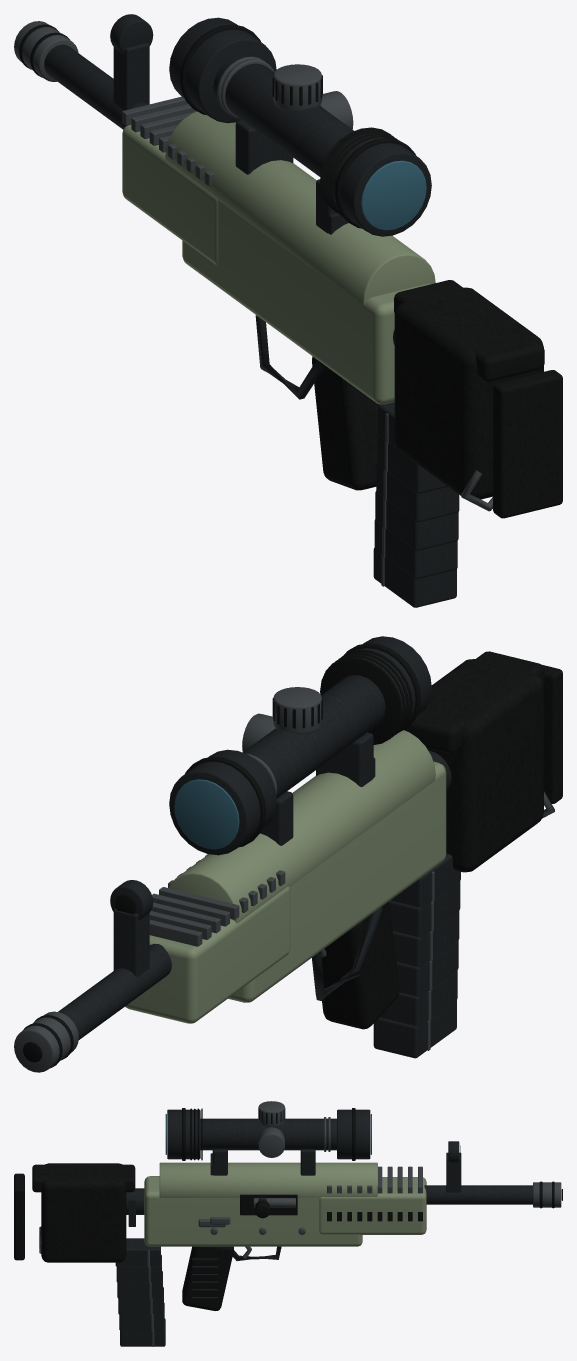
File: aug.glb
3 renders of one model, top to bottom at view 1: azimuth 30°, elevation 25°; view 2: azimuth 150°, elevation 25°; view 3: azimuth 270°, elevation 25°, orthographic. The views are drawn at different scales.
Visible parts, largest first — view 1: weapon_Weapon finish / Olive rifle finish, weapon_Parkerized steel, weapon_Weapon finish / Polymer, weapon_Polymer, magazine_Parkerized steel, weapon_Machined edges, weapon_Coated scope glass; view 2: weapon_Weapon finish / Olive rifle finish, weapon_Parkerized steel, weapon_Weapon finish / Polymer, weapon_Polymer, magazine_Parkerized steel, weapon_Machined edges, weapon_Coated scope glass, magazine_Machined edges; view 3: weapon_Weapon finish / Olive rifle finish, weapon_Parkerized steel, weapon_Weapon finish / Polymer, weapon_Polymer, magazine_Parkerized steel, weapon_Machined edges, bolt_Machined edges.
Part boxes in pixels (x1,y1,x2,y2): weapon_Weapon finish / Olive rifle finish: (122,111,435,404); weapon_Parkerized steel: (44,14,431,399); weapon_Weapon finish / Polymer: (394,280,544,499); weapon_Polymer: (19,24,562,518); magazine_Parkerized steel: (373,402,459,607); weapon_Machined edges: (14,21,492,511); weapon_Coated scope glass: (361,160,426,230); weapon_Weapon finish / Olive rifle finish: (125,730,446,1023); weapon_Parkerized steel: (58,636,451,1039); weapon_Weapon finish / Polymer: (404,651,544,872); weapon_Polymer: (22,643,562,1068); magazine_Parkerized steel: (373,853,460,1058); weapon_Machined edges: (14,687,554,1072); weapon_Coated scope glass: (174,779,239,849); magazine_Machined edges: (427,871,434,1050); weapon_Weapon finish / Olive rifle finish: (144,1162,426,1246); weapon_Parkerized steel: (126,1109,532,1298); weapon_Weapon finish / Polymer: (32,1163,135,1262); weapon_Polymer: (14,1108,562,1310); magazine_Parkerized steel: (115,1238,165,1346); weapon_Machined edges: (39,1101,561,1253); bolt_Machined edges: (253,1198,295,1207).
Size of the model in its own units: 0.1329 by 0.4275 by 0.905.
Materials: 6 (4 with a texture image).
